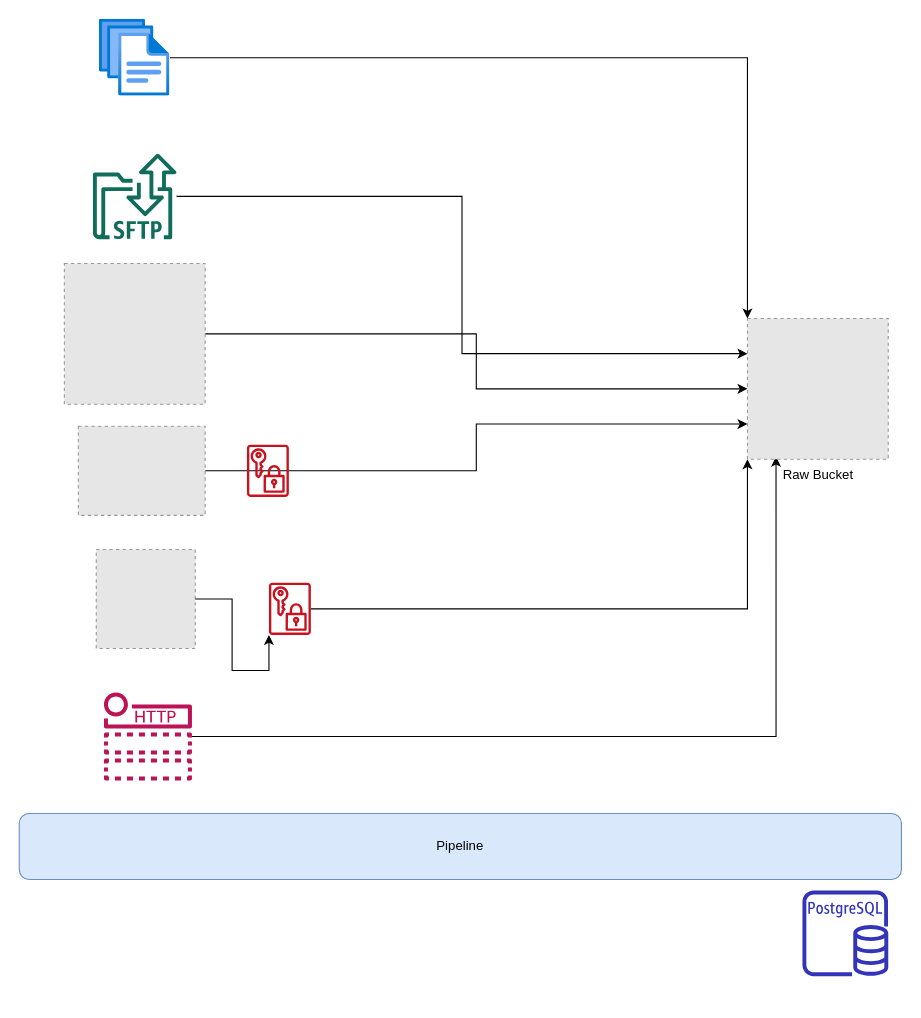
This 921x1018 diagram has some shape labels left out. Grey dashed boxes stand in for pictures. Each missing label, with the centre of its shape:
"Metadata Store" goes at [845,933].
"NSF/EFS File" goes at [134,57].
